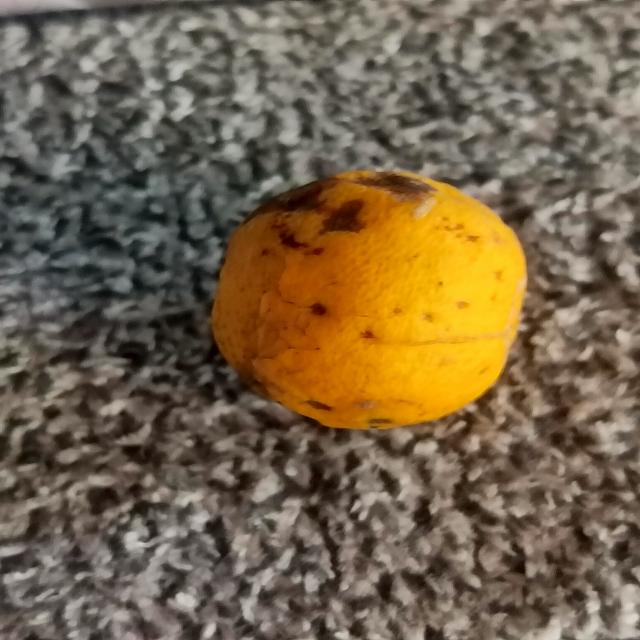black spot: (208, 164, 541, 442)
